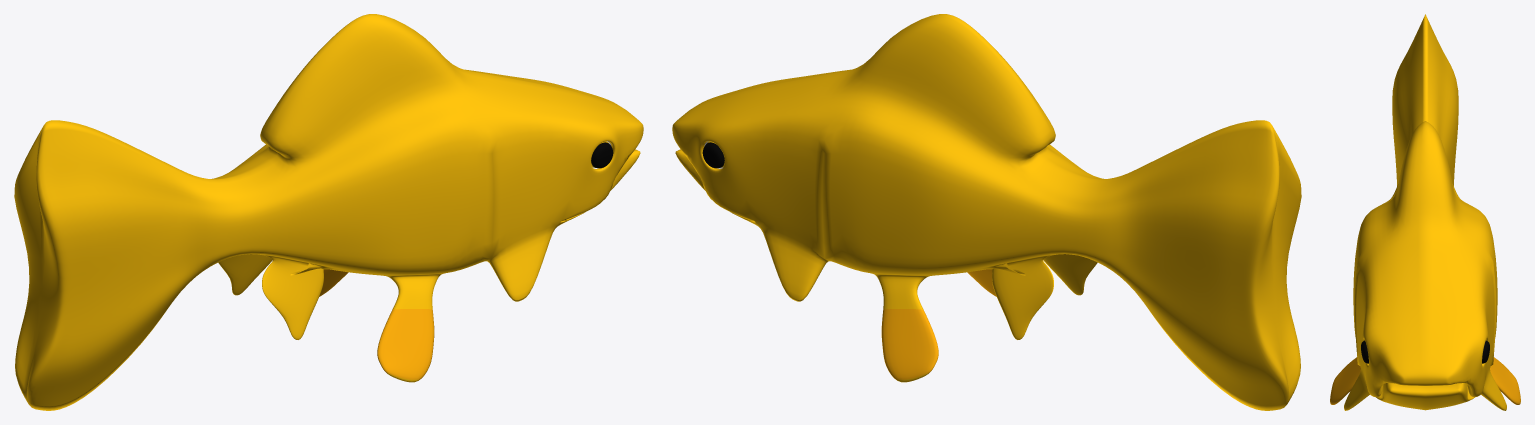
File: Gold Fish.fbx
The picture shows the model from 3 angles, left to right: view 1: azimuth 30°, elevation 25°; view 2: azimuth 150°, elevation 25°; view 3: azimuth 270°, elevation 25°; orthographic projection. The views are drawn at different scales.
Visible parts, largest first — view 1: Cube; view 2: Cube; view 3: Cube.
Part boxes in pixels (x1=…): Cube: x1=14, y1=14, x2=643, y2=410; Cube: x1=672, y1=14, x2=1301, y2=410; Cube: x1=1330, y1=14, x2=1520, y2=410.
Bounding box in the file's own units: 489 × 250 × 153.
